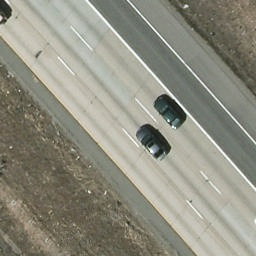car: (151, 97, 187, 132), (135, 125, 168, 160), (0, 0, 9, 25)
